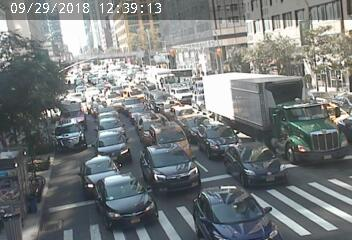car: (264, 96, 334, 152), (100, 173, 161, 226), (203, 189, 261, 235), (147, 149, 191, 183), (232, 153, 280, 182), (198, 124, 239, 155), (96, 130, 138, 158), (78, 159, 118, 183), (55, 124, 92, 146), (135, 111, 164, 137), (59, 105, 94, 125), (169, 81, 194, 103), (183, 115, 209, 135), (151, 126, 182, 140), (154, 69, 173, 86), (118, 100, 147, 111), (99, 119, 127, 130), (67, 90, 89, 104), (173, 105, 198, 117), (160, 97, 179, 109), (128, 89, 146, 99), (95, 112, 117, 118), (111, 84, 124, 91)
